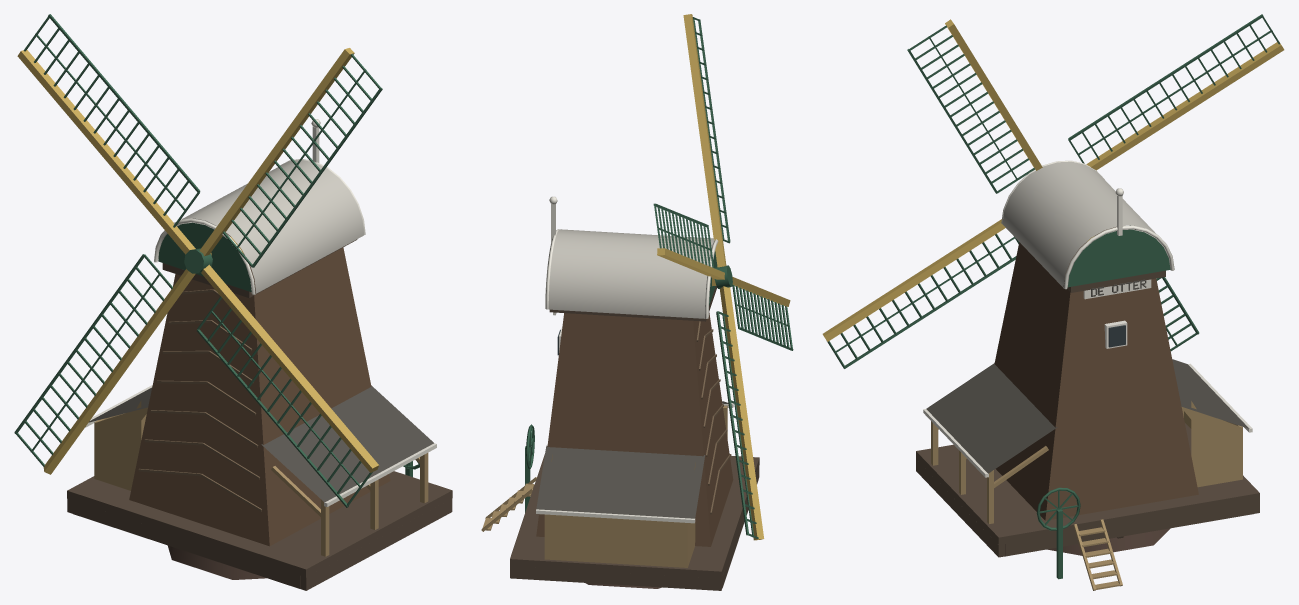
The model's file is de-otter.glb.
3 renders of one model, left to right at view 1: azimuth 30°, elevation 25°; view 2: azimuth 150°, elevation 25°; view 3: azimuth 270°, elevation 25°, orthographic. The views are drawn at different scales.
Parts seen in each view (by area): view 1: de-otter; view 2: de-otter; view 3: de-otter.
Part boxes in pixels (x1,y1,x2,y2): de-otter: (14,14,452,590); de-otter: (481,14,793,590); de-otter: (822,14,1284,590).
Size of the model in its own units: 13.55 by 20.12 by 16.73.
